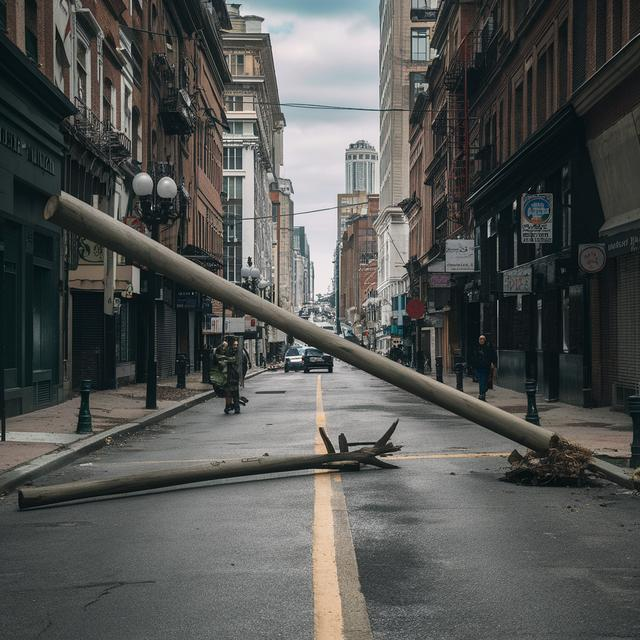Inclined Pole: (38, 186, 599, 483), (15, 415, 406, 512)
